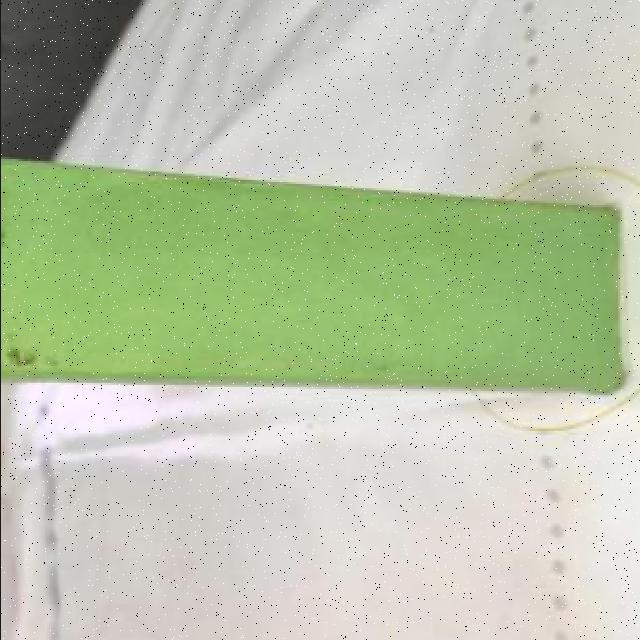greenbox: (0, 152, 621, 396)
